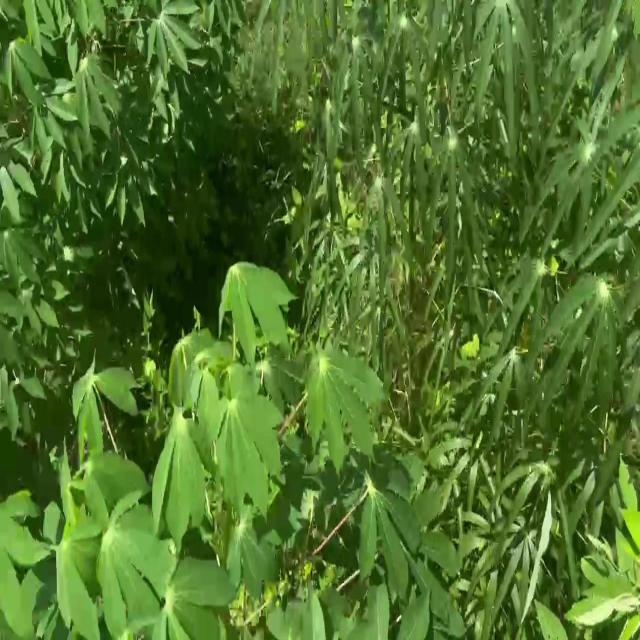Maleza: (570, 500, 640, 630)
Mosca: (503, 20, 534, 47), (566, 299, 585, 326), (611, 22, 627, 40)
